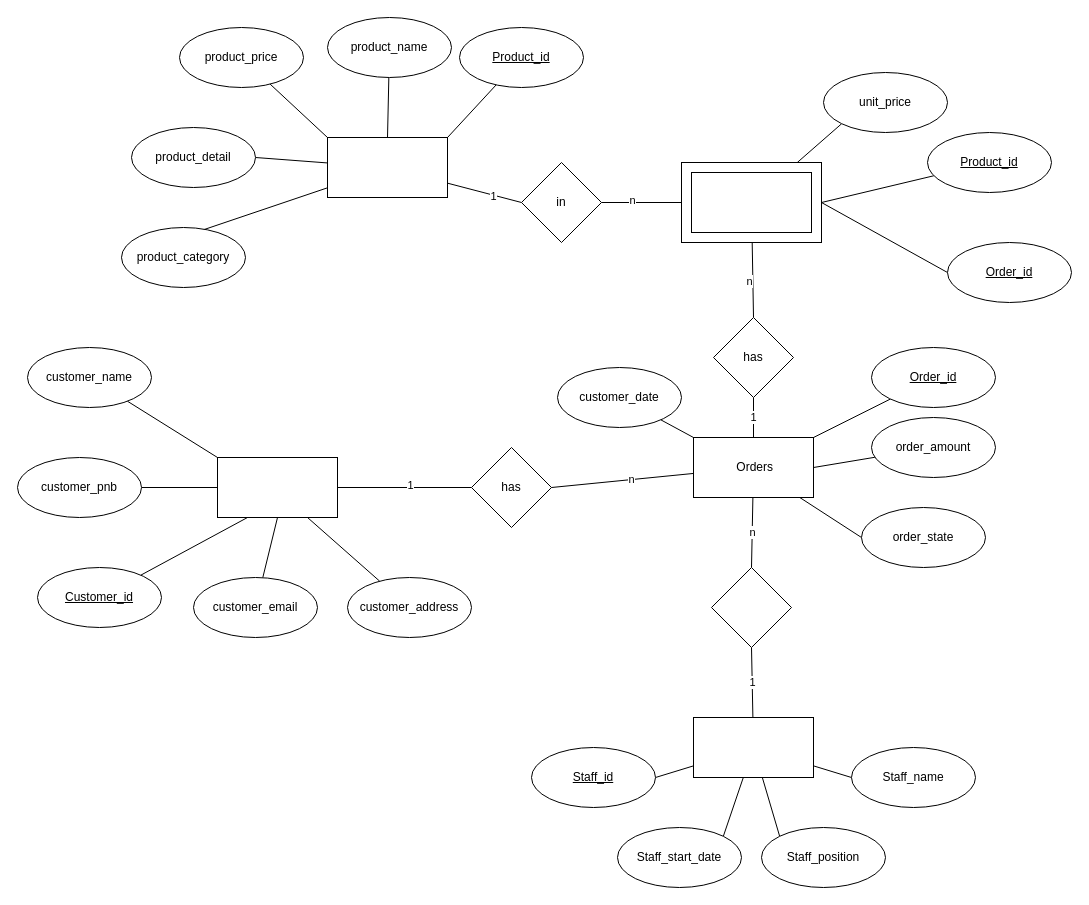
Some shapes in this 1089 by 905 pixel diagram are drawn without their labels. The shapes that lost their labels are listed below. From the top down, each one's centre as x and y in pixels, then its label:
At [387,167]: "Products".
At [751,202]: "Order_detail".
At [277,487]: "Customers".
At [751,607]: "handle".
At [753,747]: "Staff".
